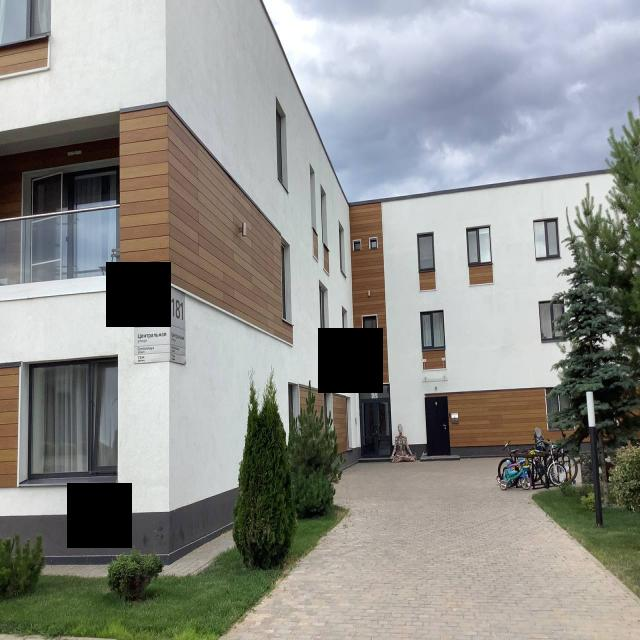Building: (0, 0, 612, 567)
